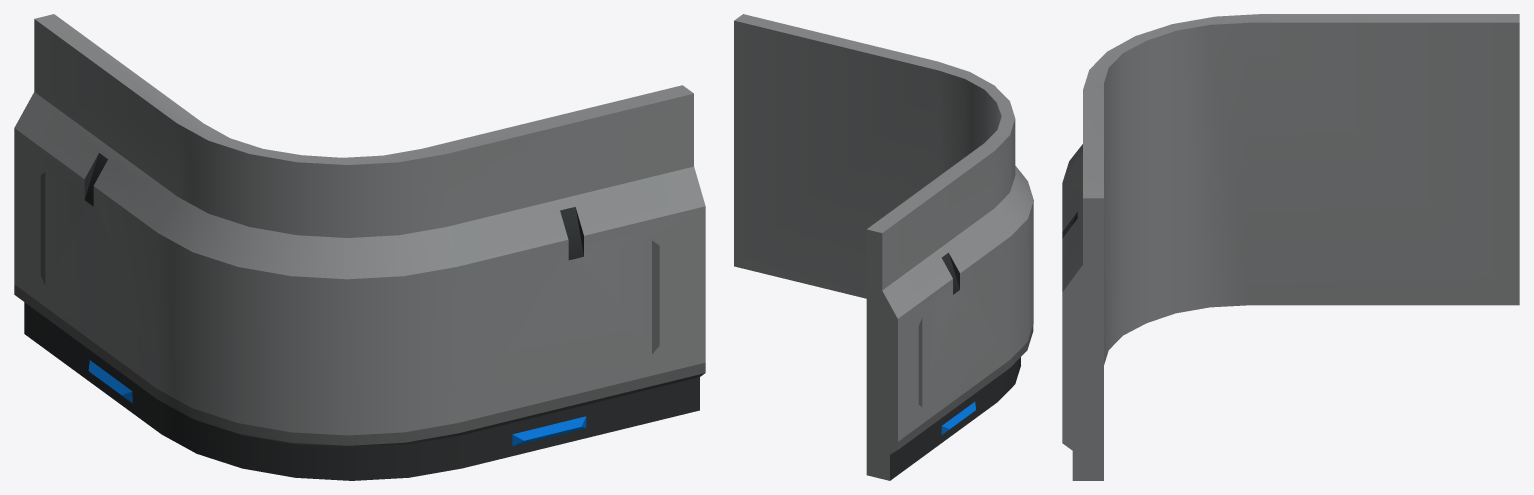
File: Wall_type_B_040.fbx
3 renders of one model, left to right at view 1: azimuth 30°, elevation 25°; view 2: azimuth 150°, elevation 25°; view 3: azimuth 270°, elevation 25°, orthographic. The views are drawn at different scales.
Visible parts, largest first — view 1: Wall_type_B_040; view 2: Wall_type_B_040; view 3: Wall_type_B_040.
Boxes of the visible parts, box(x1,y1,x2,y2) form: Wall_type_B_040: box(14, 14, 705, 480); Wall_type_B_040: box(734, 14, 1033, 480); Wall_type_B_040: box(1062, 14, 1519, 480).
Bounding box in the file's own units: 220 × 220 × 150.
